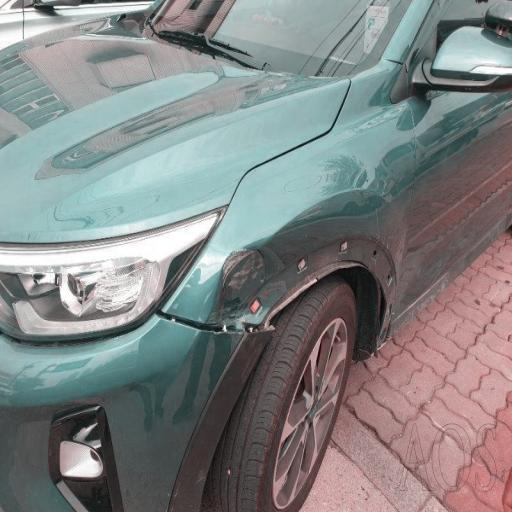dent: (151, 168, 343, 372)
